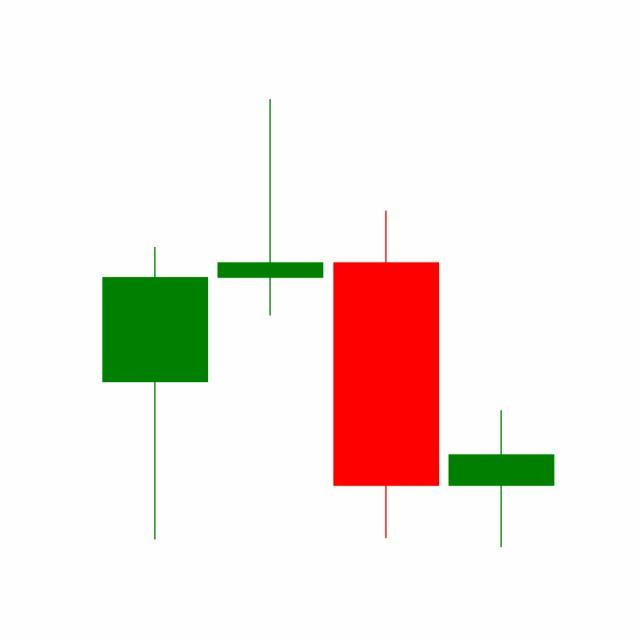Spinning Top: (444, 409, 560, 550)
